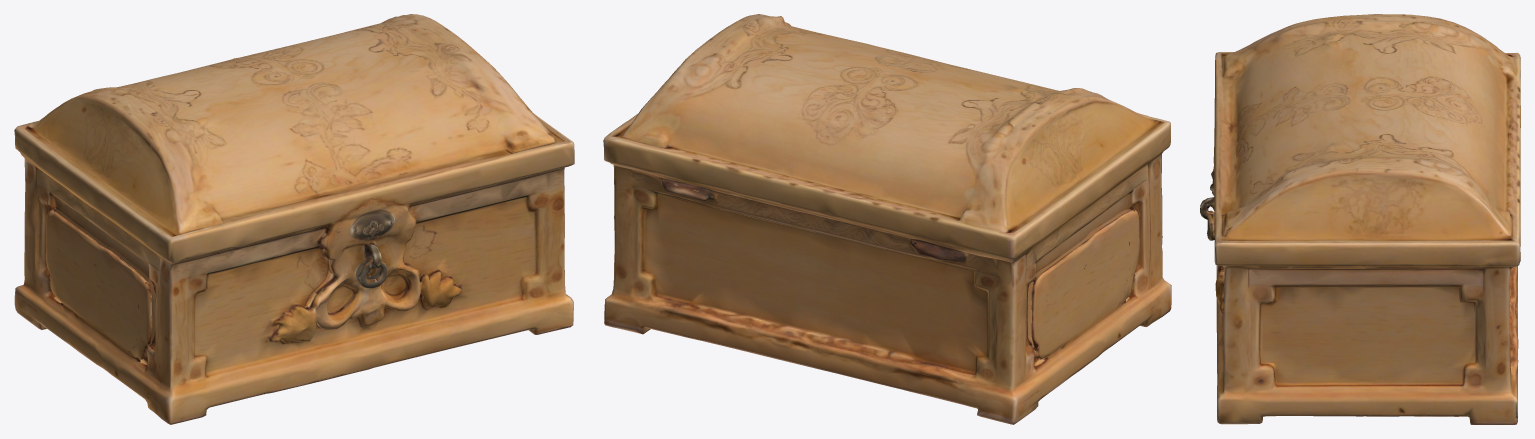
The picture shows the model from 3 angles, left to right: view 1: azimuth 30°, elevation 25°; view 2: azimuth 150°, elevation 25°; view 3: azimuth 270°, elevation 25°; orthographic projection. The views are drawn at different scales.
Visible parts, largest first — view 1: Mesh1.0; view 2: Mesh1.0; view 3: Mesh1.0.
Boxes of the visible parts, bbox=[...] form: Mesh1.0: bbox=[14, 14, 574, 424]; Mesh1.0: bbox=[603, 14, 1171, 424]; Mesh1.0: bbox=[1200, 14, 1520, 424].
Bounding box in the file's own units: 201 × 116 × 141.
Materials: 1 (1 with a texture image).
